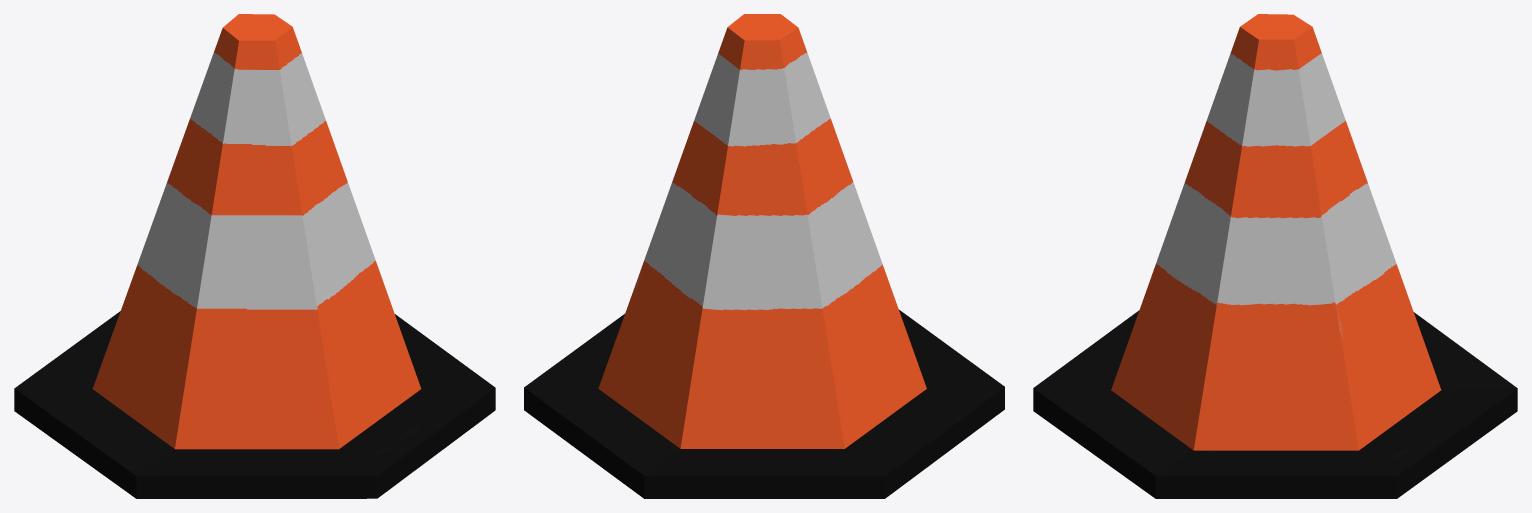
File: traffic_cone.fbx
3 renders of one model, left to right at view 1: azimuth 30°, elevation 25°; view 2: azimuth 150°, elevation 25°; view 3: azimuth 270°, elevation 25°, orthographic.
Parts seen in each view (by area): view 1: Cone; view 2: Cone; view 3: Cone.
Part boxes in pixels (x1,y1,x2,y2): Cone: (14,14,495,498); Cone: (524,14,1004,498); Cone: (1033,14,1517,498).
Bounding box in the file's own units: 65.94 × 66.97 × 76.28.
